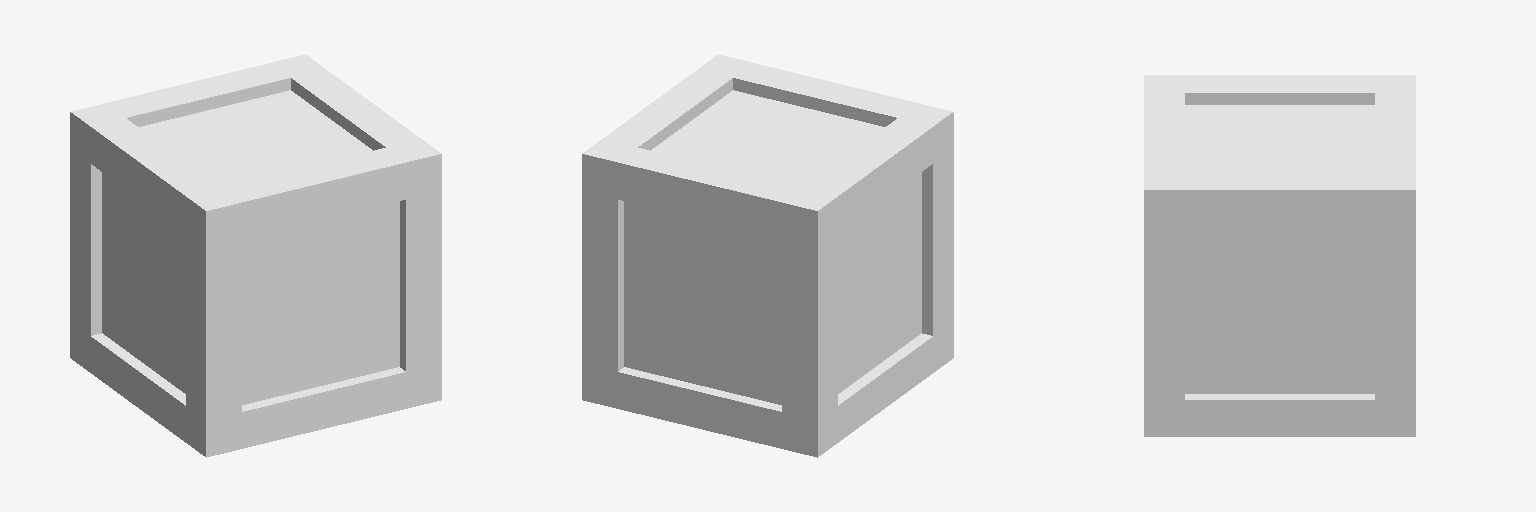
File: health.obj
3 renders of one model, left to right at view 1: azimuth 30°, elevation 25°; view 2: azimuth 150°, elevation 25°; view 3: azimuth 270°, elevation 25°, orthographic.
Parts seen in each view (by area): view 1: health; view 2: health; view 3: health.
Boxes of the visible parts, x1,y1,x2,y2 form: health: [70, 54, 441, 457]; health: [582, 54, 953, 457]; health: [1144, 75, 1415, 436].
Size of the model in its own units: 20 by 20 by 20.